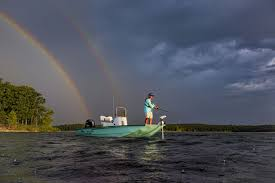boat: (74, 96, 167, 140)
